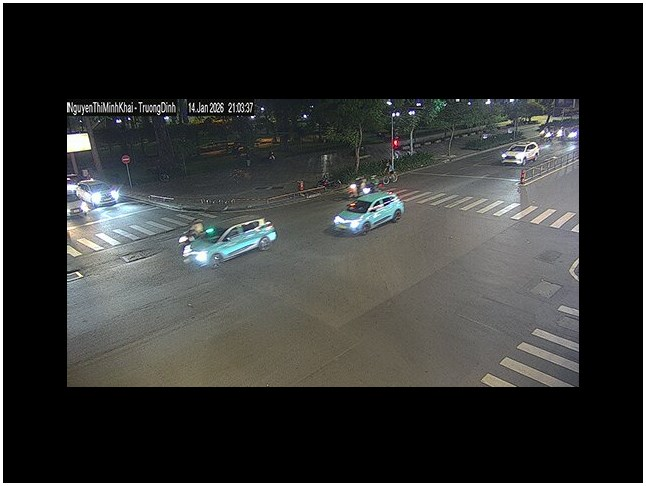car: (179, 219, 278, 270), (330, 191, 405, 236), (75, 179, 119, 208), (500, 141, 540, 165)
